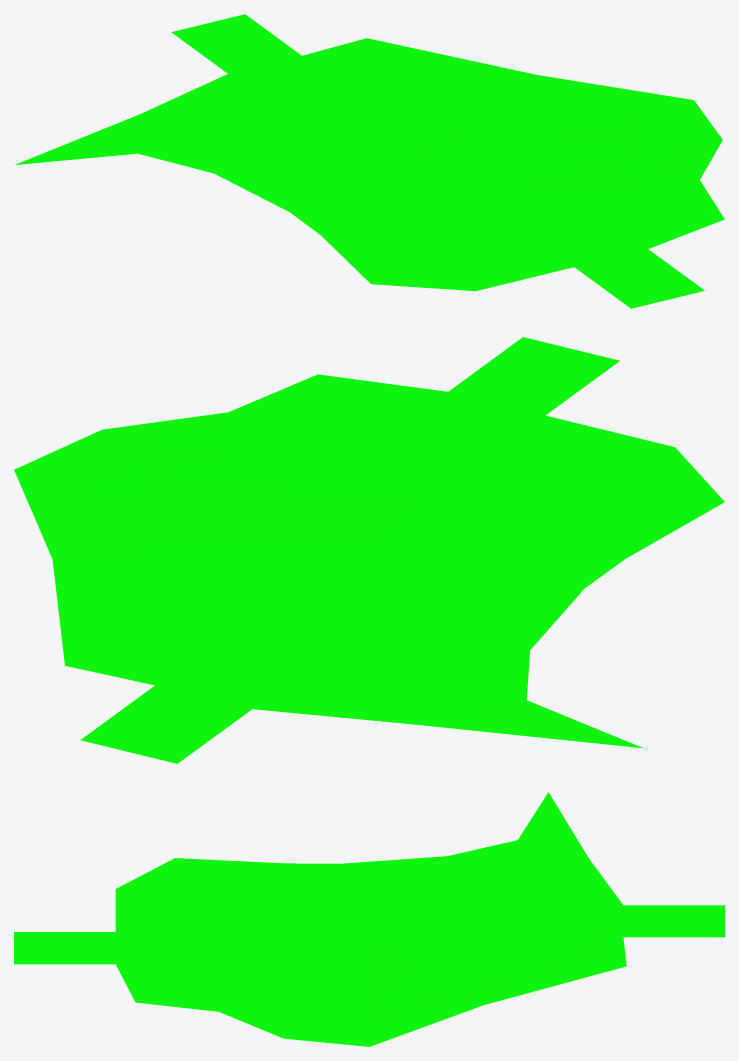
File: s04a_ib2-floor.glb
3 views of the same model, one above another, from view 1: azimuth 30°, elevation 25°; view 2: azimuth 150°, elevation 25°; view 3: azimuth 270°, elevation 25° (orthographic). The views are drawn at different scales.
Parts seen in each view (by area): view 1: collision_floor-colonly; view 2: collision_floor-colonly; view 3: collision_floor-colonly.
Boxes of the visible parts, bbox=[...] form: collision_floor-colonly: bbox=[15, 14, 724, 308]; collision_floor-colonly: bbox=[14, 337, 724, 763]; collision_floor-colonly: bbox=[14, 792, 724, 1046].
Bounding box in the file's own units: 47.03 × 0.2266 × 56.
